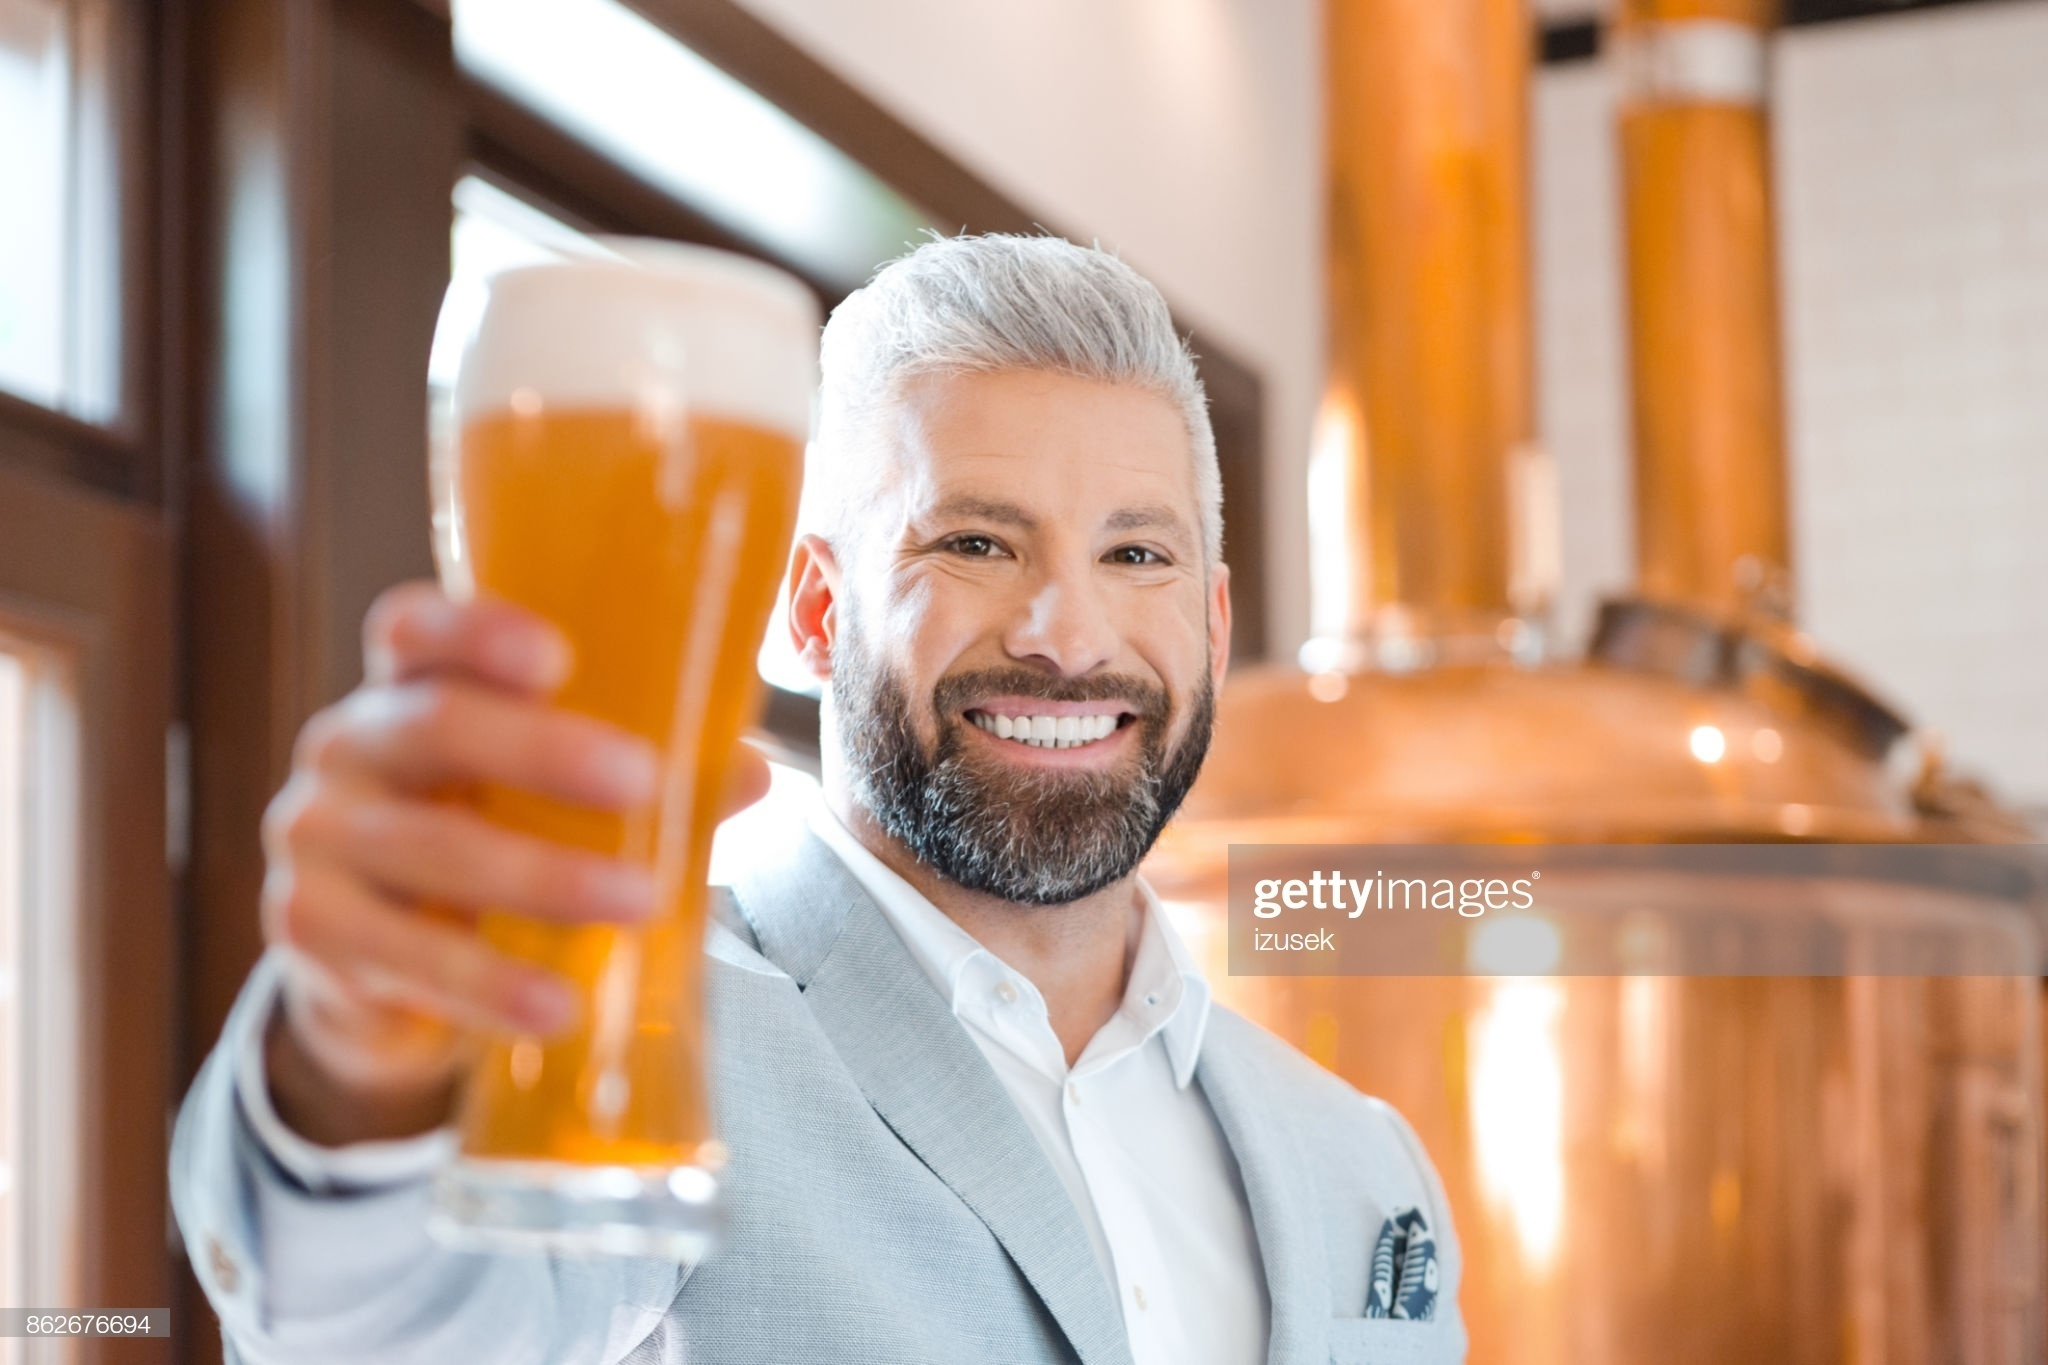whiskey: (349, 280, 821, 1223)
